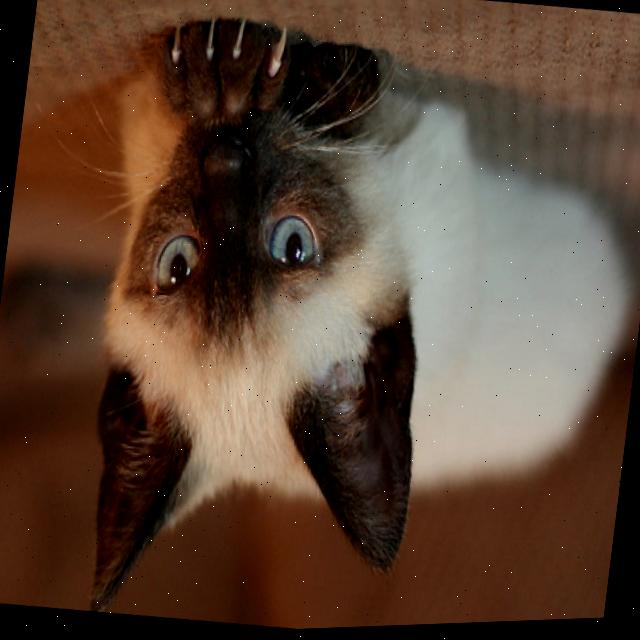Siamese: (56, 0, 640, 638)
